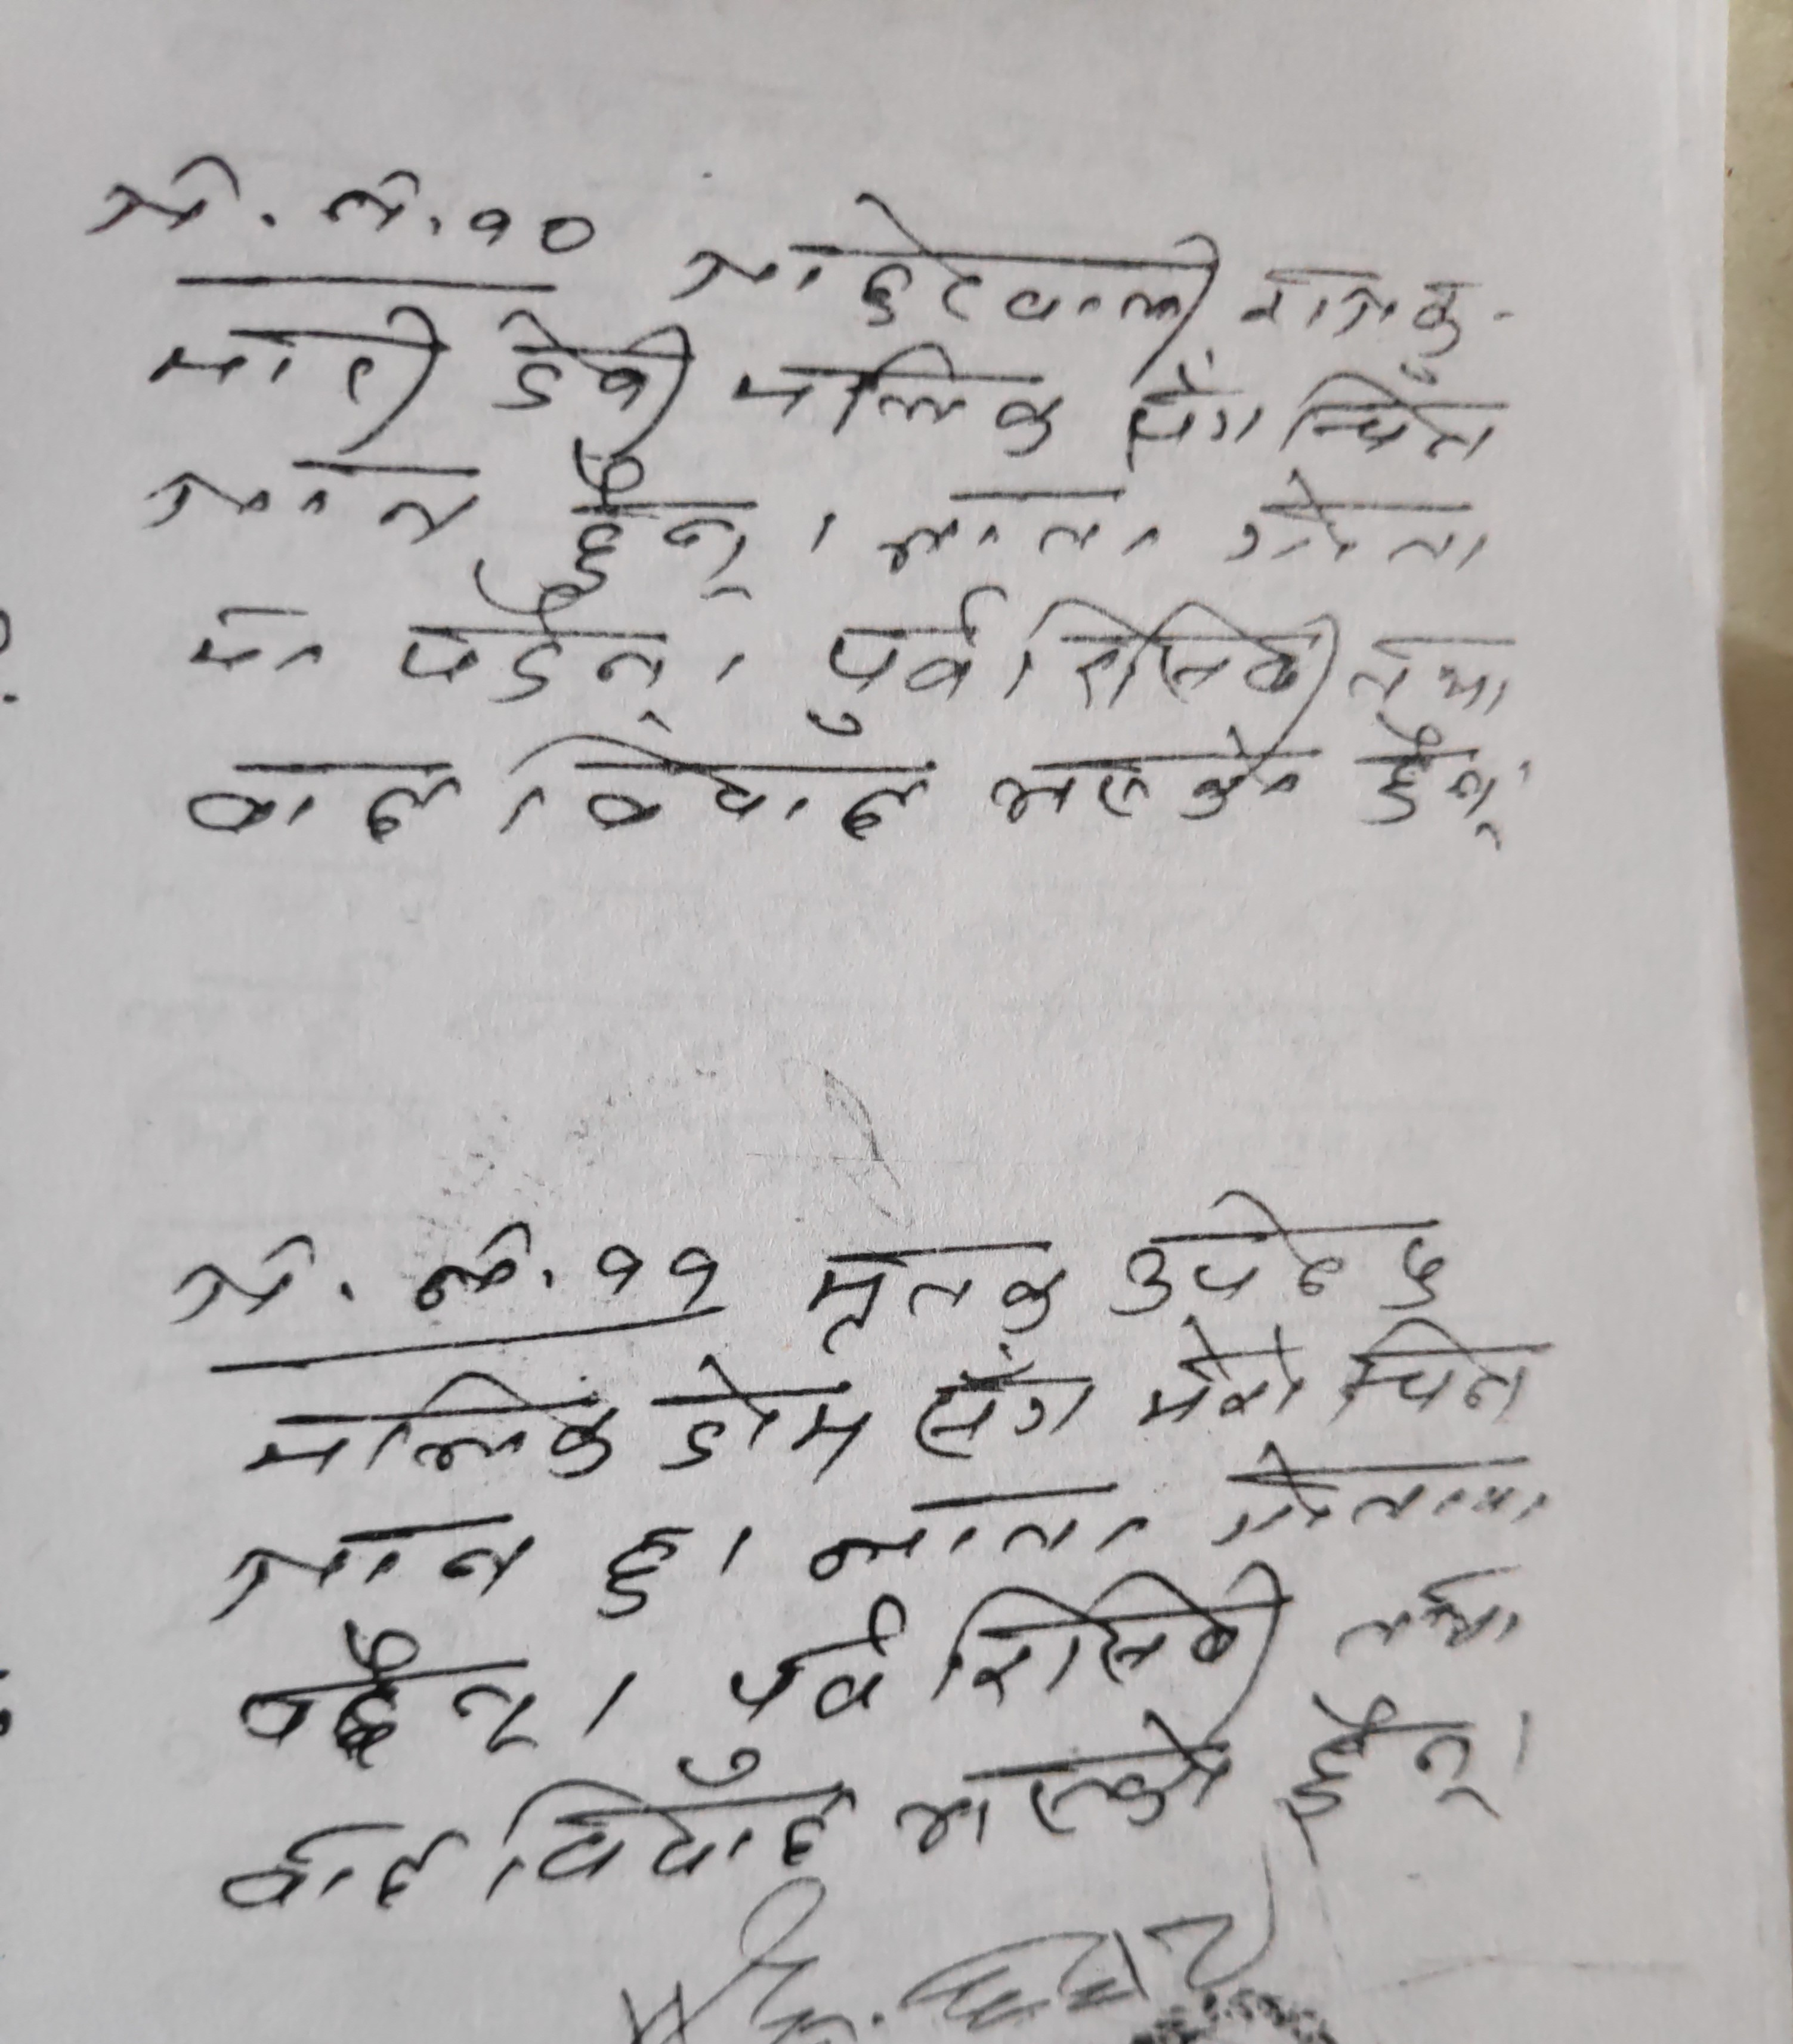text: (679, 189, 1220, 356), (1008, 593, 1524, 723), (933, 1559, 1291, 1714), (504, 730, 933, 859), (879, 1714, 1237, 1867), (238, 1359, 629, 1488), (226, 1618, 552, 1771), (480, 1776, 865, 1901), (1115, 356, 1506, 476), (1110, 1185, 1452, 1321), (671, 1597, 907, 1792), (728, 342, 1065, 476), (141, 297, 453, 440), (163, 1213, 533, 1331), (394, 589, 679, 730), (1199, 1439, 1560, 1543), (89, 139, 436, 243), (146, 452, 492, 556), (975, 727, 1310, 831), (804, 1488, 1161, 1583), (196, 1806, 457, 1934), (486, 297, 691, 459), (554, 448, 775, 598), (205, 1510, 533, 1609), (1274, 1693, 1510, 1830), (796, 1238, 1070, 1351), (803, 586, 1002, 739), (1227, 464, 1494, 577), (657, 1356, 879, 1490), (179, 754, 453, 855), (877, 481, 1166, 575), (1124, 1311, 1307, 1446), (907, 1344, 1103, 1469), (1241, 255, 1482, 356), (1331, 1317, 1532, 1434), (1352, 718, 1518, 855), (1331, 1564, 1532, 1669), (179, 586, 328, 697), (573, 1517, 695, 1630), (582, 1238, 728, 1317), (459, 198, 605, 268)
